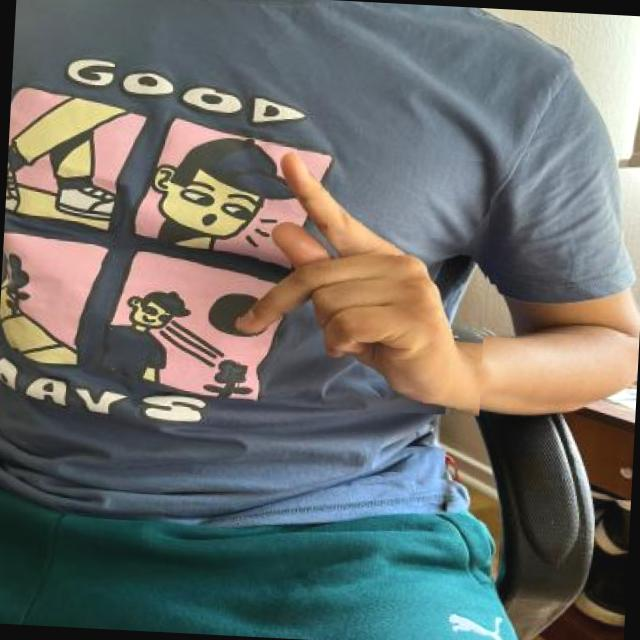K: (232, 142, 492, 416)
